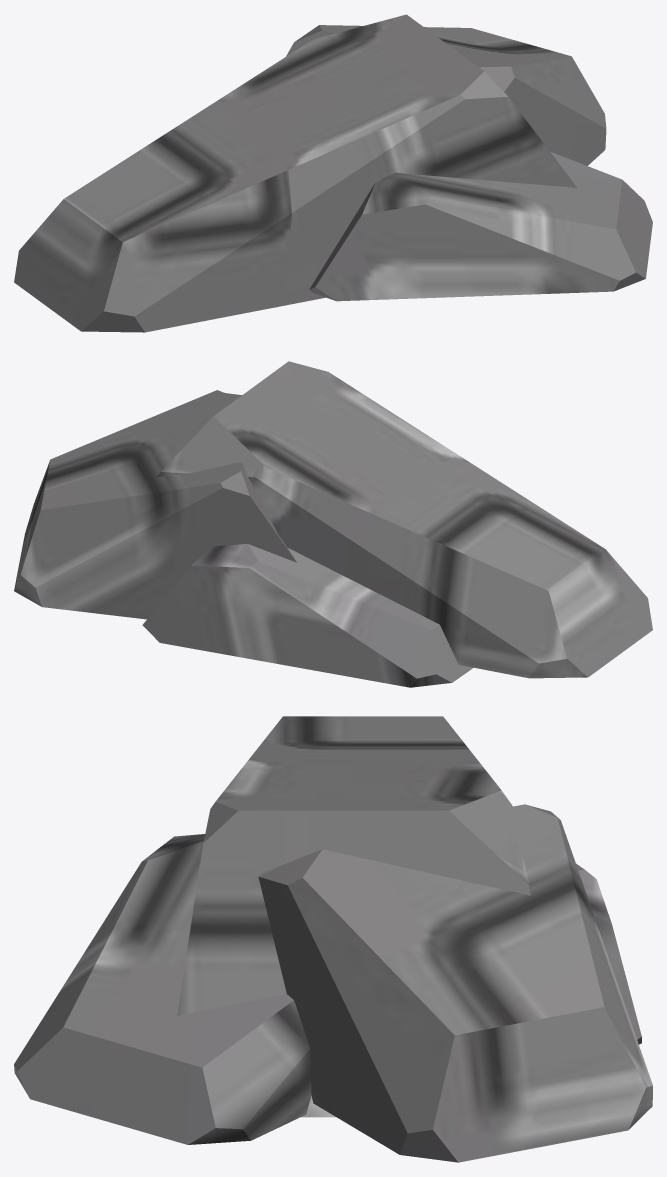
The model's file is rock_1.fbx.
3 views of the same model, one above another, from view 1: azimuth 30°, elevation 25°; view 2: azimuth 150°, elevation 25°; view 3: azimuth 270°, elevation 25° (orthographic). The views are drawn at different scales.
Parts seen in each view (by area): view 1: Cube.001, Cube.005, Cube.002, Cube.003; view 2: Cube.005, Cube.003, Cube.001, Cube.004; view 3: Cube.003, Cube.002, Cube.001, Cube.005, Cube.004.
Boxes of the visible parts, x1,y1,x2,y2 form: Cube.001: (218,14,577,305); Cube.005: (14,100,291,332); Cube.002: (309,151,652,301); Cube.003: (286,25,606,165); Cube.005: (367,462,652,678); Cube.003: (14,390,296,619); Cube.001: (157,361,469,588); Cube.004: (142,544,473,687); Cube.003: (258,804,652,1162); Cube.002: (14,834,311,1144); Cube.001: (177,758,530,1117); Cube.005: (250,716,478,762); Cube.004: (576,863,641,1044).
Bounding box in the file's own units: 453 × 137 × 317.
Materials: 1 (1 with a texture image).
